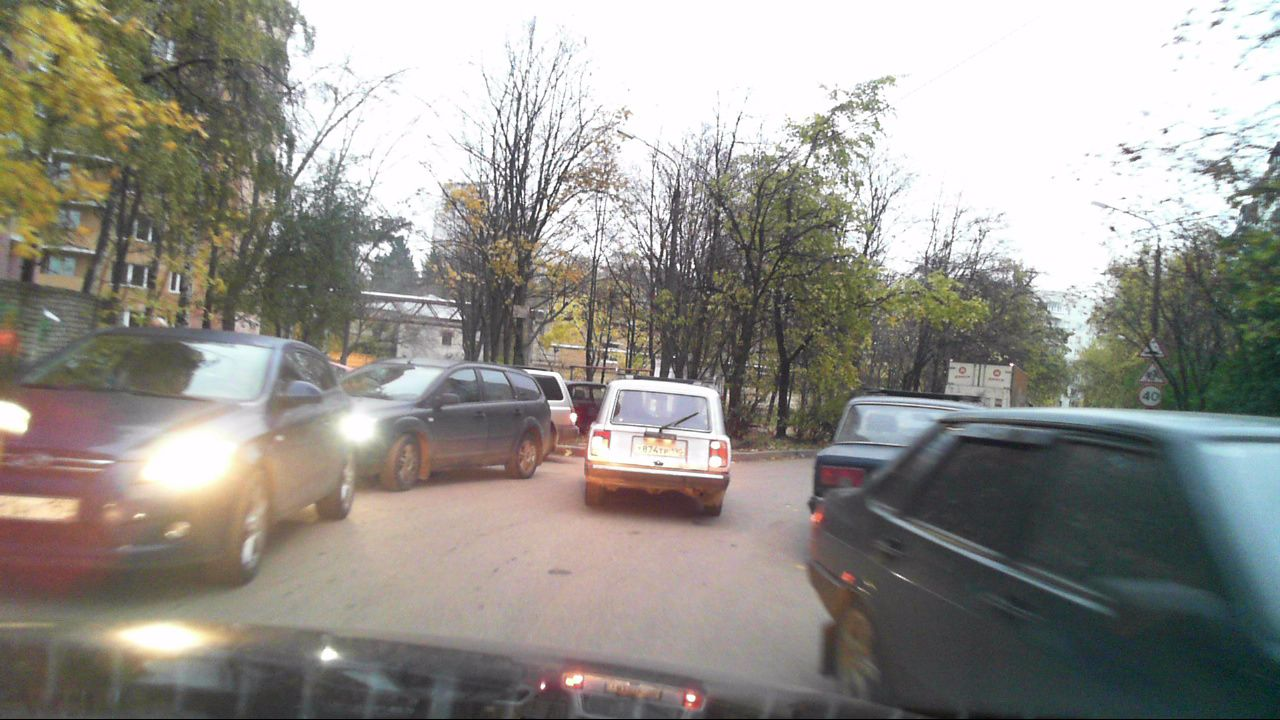speed_warning_40: (1139, 386, 1162, 406)
